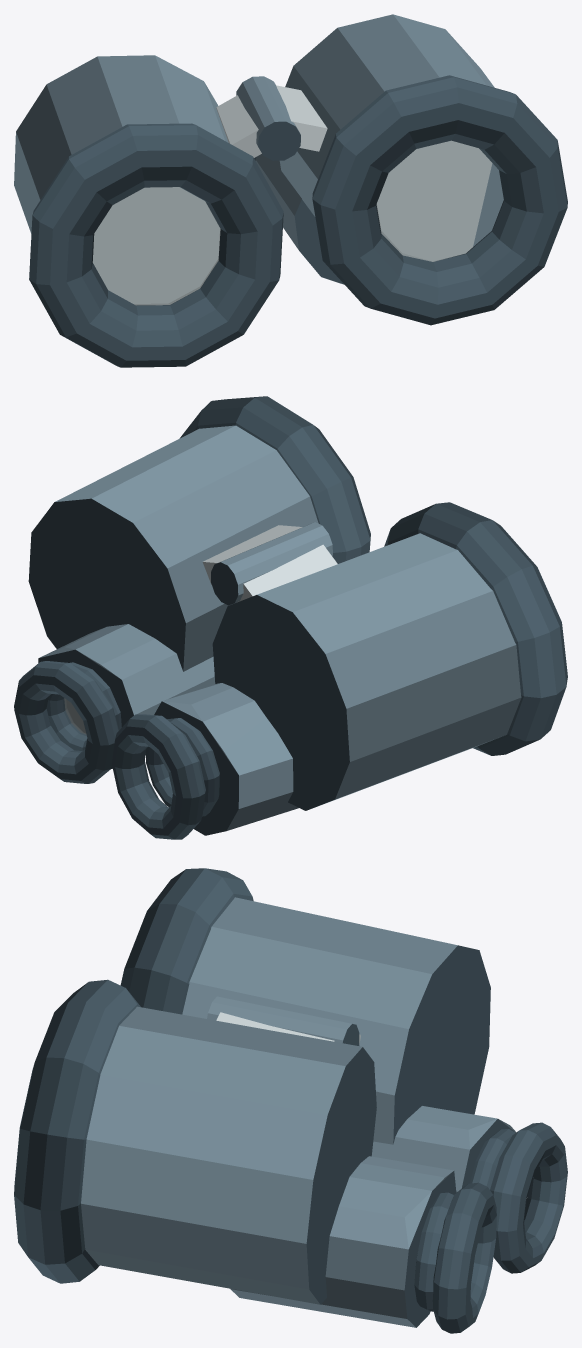
Rendered from binoculars.glb.
3 renders of one model, top to bottom at view 1: azimuth 30°, elevation 25°; view 2: azimuth 150°, elevation 25°; view 3: azimuth 270°, elevation 25°, orthographic. The views are drawn at different scales.
Visible parts, largest first — view 1: Node; view 2: Node; view 3: Node.
Boxes of the visible parts, left/top/right/bottom form: Node: left=14, top=14, right=567, bottom=367; Node: left=14, top=396, right=567, bottom=839; Node: left=14, top=868, right=567, bottom=1333.
Size of the model in its own units: 0.4302 by 0.2306 by 0.3594.
